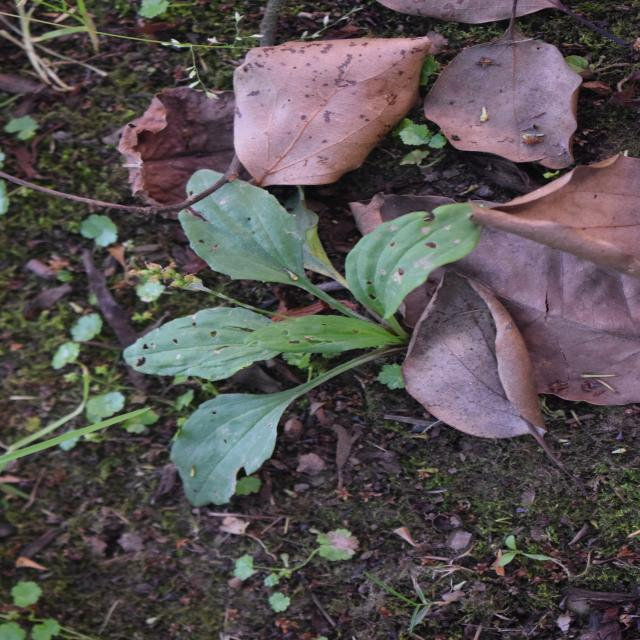plantain: (159, 118, 469, 484)
